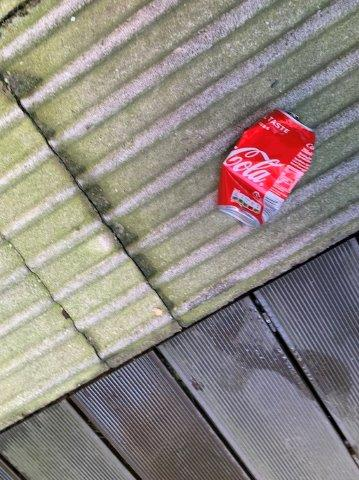kaleng: (221, 110, 314, 226)
